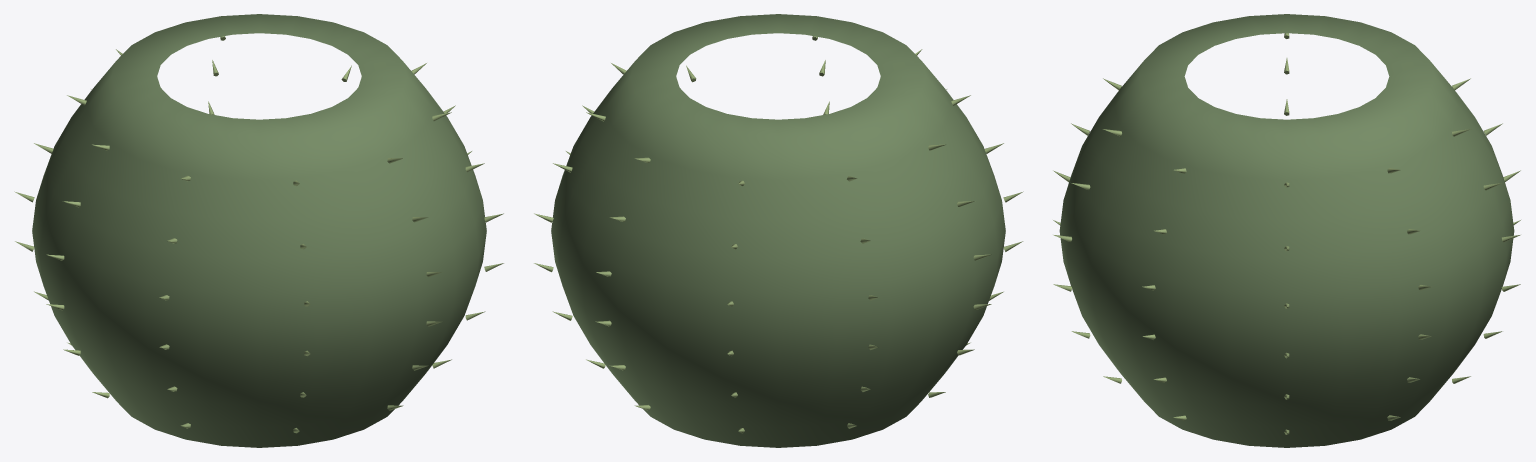
The model's file is cactus-barrel.glb.
The picture shows the model from 3 angles, left to right: view 1: azimuth 30°, elevation 25°; view 2: azimuth 150°, elevation 25°; view 3: azimuth 270°, elevation 25°; orthographic projection.
Visible parts, largest first — view 1: cactus-barrel; view 2: cactus-barrel; view 3: cactus-barrel.
Part boxes in pixels (x1,y1,x2,y2): cactus-barrel: (14,14,503,447); cactus-barrel: (534,14,1023,447); cactus-barrel: (1053,14,1520,447).
Bounding box in the file's own units: 1.62 × 1.12 × 1.54.
